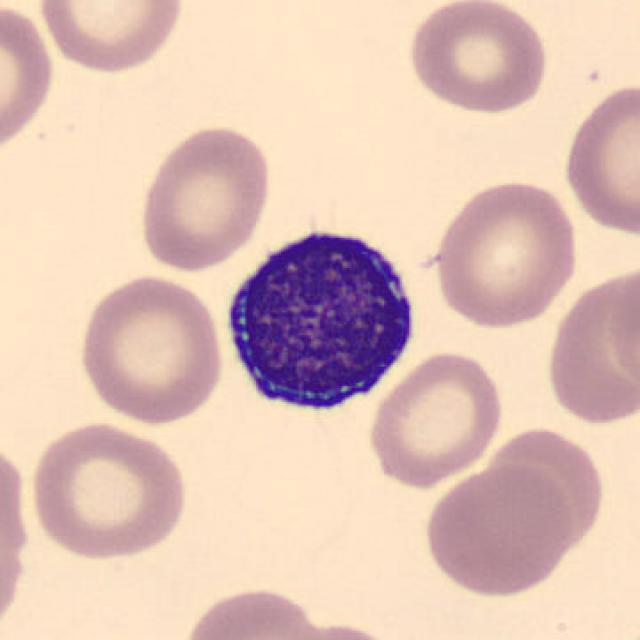Lymphocyte: (213, 210, 425, 423)
RBC: (23, 418, 192, 562), (428, 173, 582, 331), (73, 272, 227, 426), (135, 120, 276, 273), (422, 462, 574, 599), (364, 347, 506, 490), (403, 0, 551, 116), (542, 261, 636, 430), (558, 78, 638, 240), (34, 0, 188, 76), (0, 2, 59, 160), (178, 582, 329, 640), (0, 428, 34, 635), (602, 255, 640, 407), (261, 619, 418, 640)
